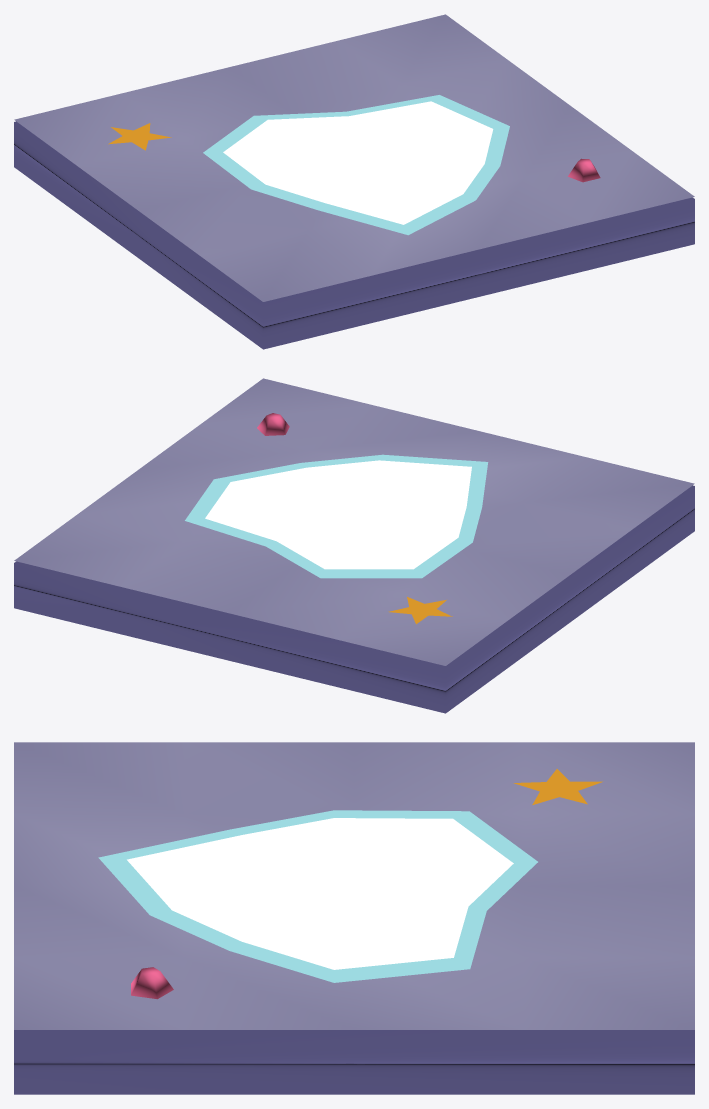
The model's file is tile_isotope_pool.glb.
The picture shows the model from 3 angles, top to bottom: view 1: azimuth 30°, elevation 25°; view 2: azimuth 150°, elevation 25°; view 3: azimuth 270°, elevation 25°; orthographic projection. The views are drawn at different scales.
Visible parts, largest first — view 1: Tile.001; view 2: Tile.001; view 3: Tile.001.
Boxes of the visible parts, left/top/right/bottom form: Tile.001: left=14, top=14, right=694, bottom=349; Tile.001: left=14, top=378, right=694, bottom=713; Tile.001: left=14, top=742, right=694, bottom=1094.
Size of the model in its own units: 1 by 0.135 by 1.
